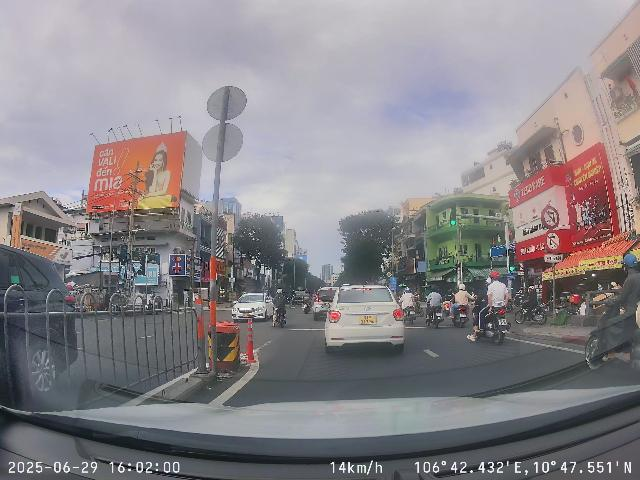103b-cam-oto-re-phai: (544, 229, 561, 253)
103c-cam-oto-re-trai: (541, 206, 560, 229)
